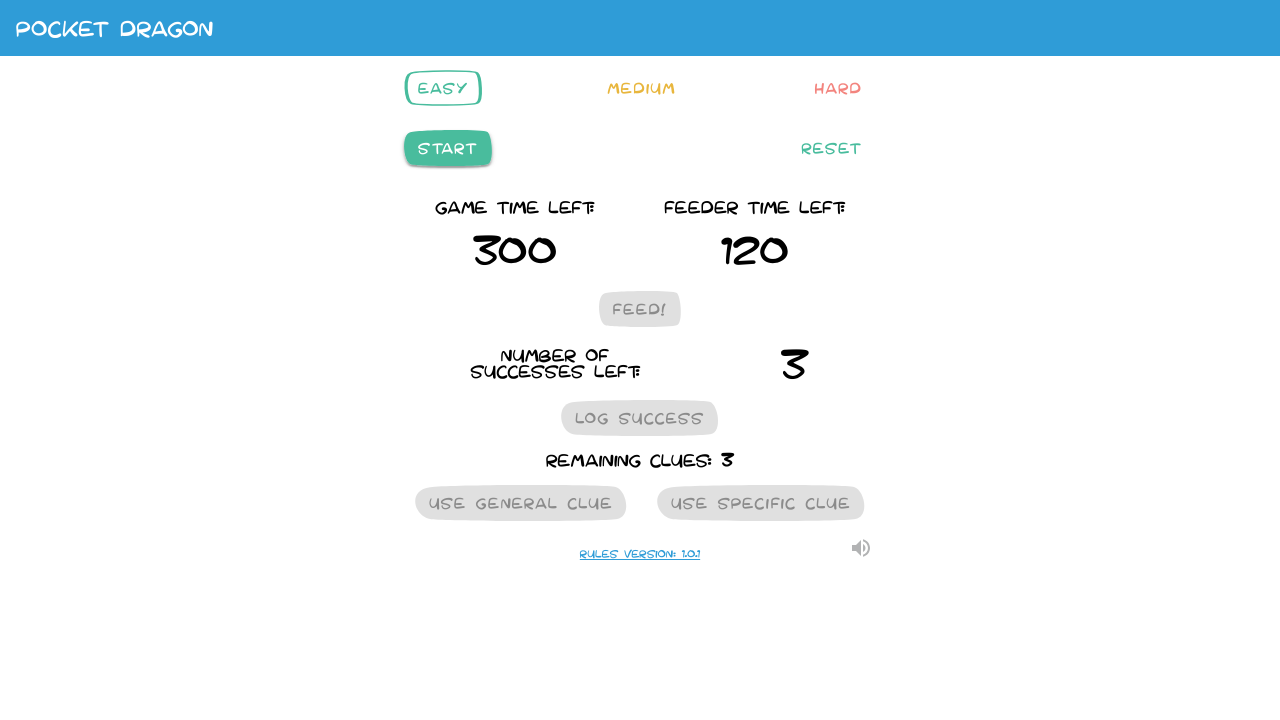
Test case: App › shows the lose dialog when the feed timer runs out
The width and height of the screenshot is (1280, 720).
Click the button with test id "start-pause" at (448, 148), box left=400, top=126, right=496, bottom=170
Wait 120000 ms
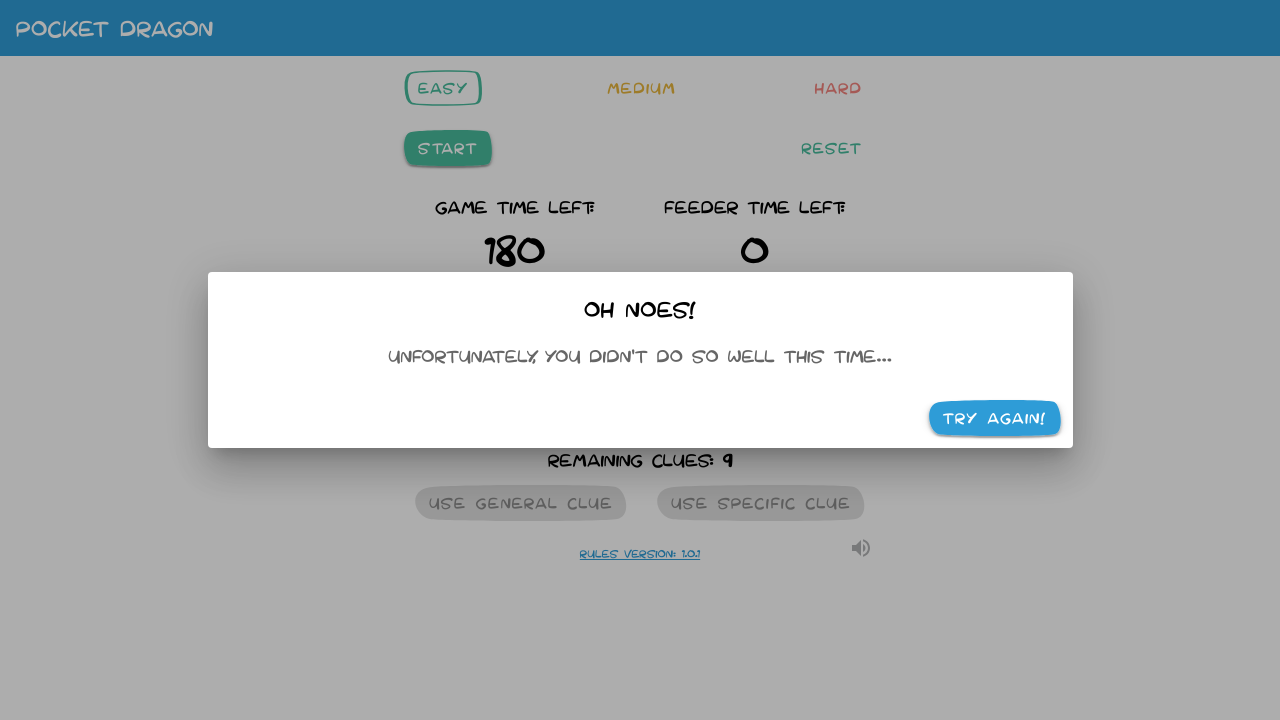
Check: the heading with test id "game-over-heading" reads "Oh noes!", box left=584, top=300, right=696, bottom=319
